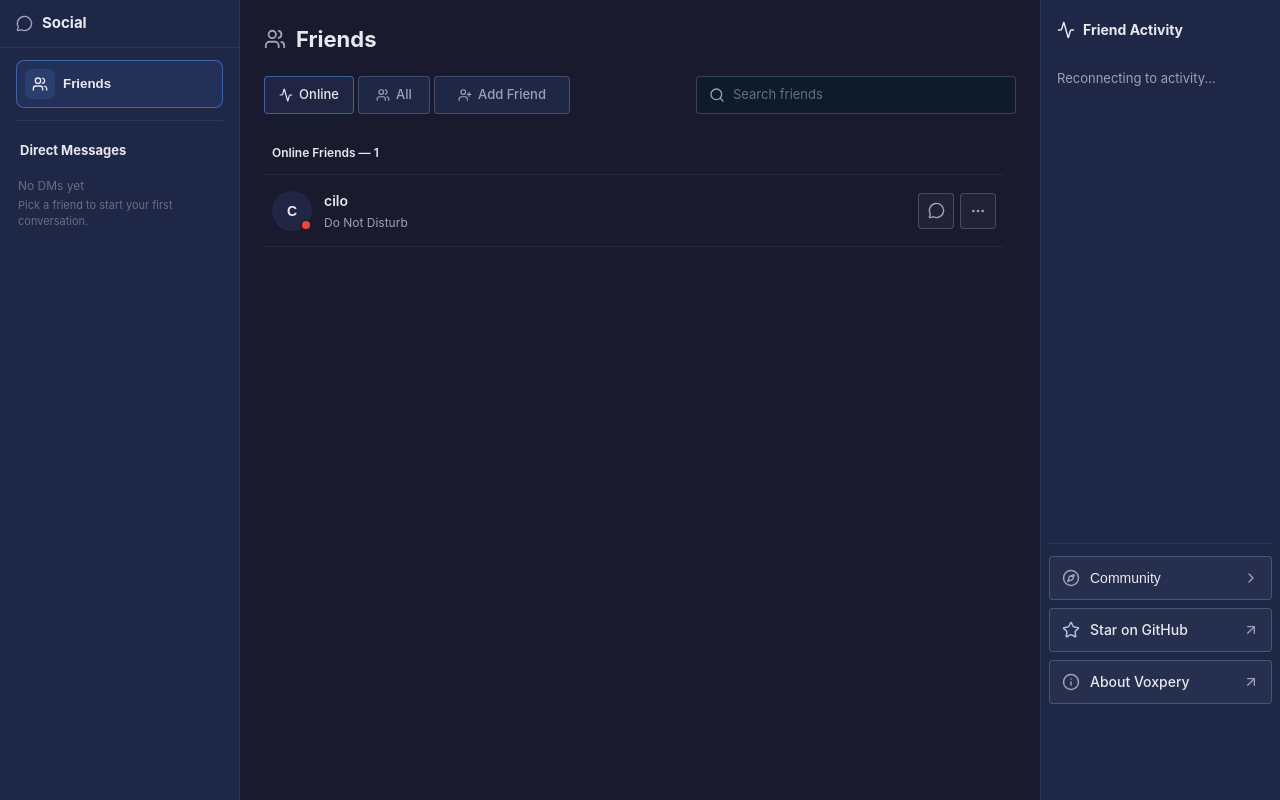
Test: HomePage friends list › opens a friend profile from the viewport-clamped Social context menu
Right-click the element named "Message cilo" at (634, 211), box x1=264 y1=175 x2=1004 y2=247
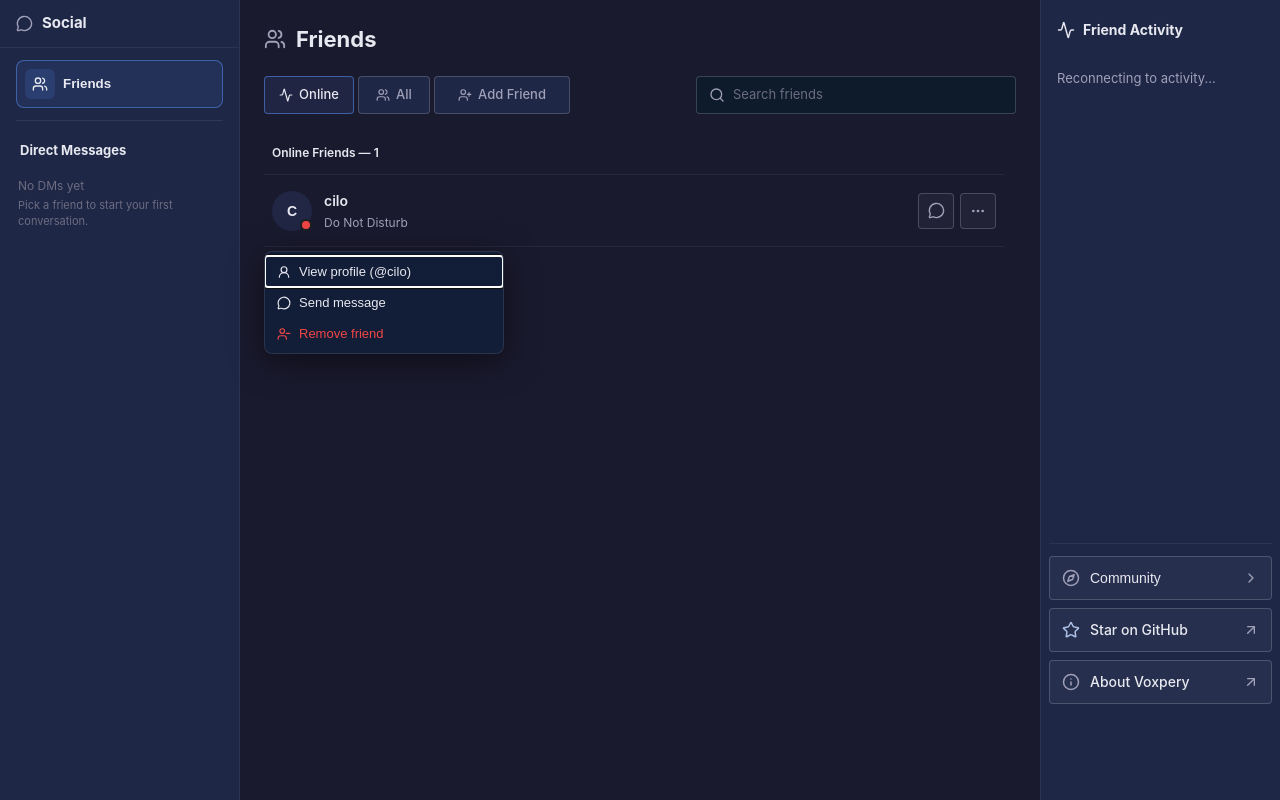
Expected: the menu named "Actions for cilo" is shown, x1=264 y1=251 x2=504 y2=354
Click the menu item "View profile (@cilo)" at (384, 272), box x1=265 y1=256 x2=503 y2=287
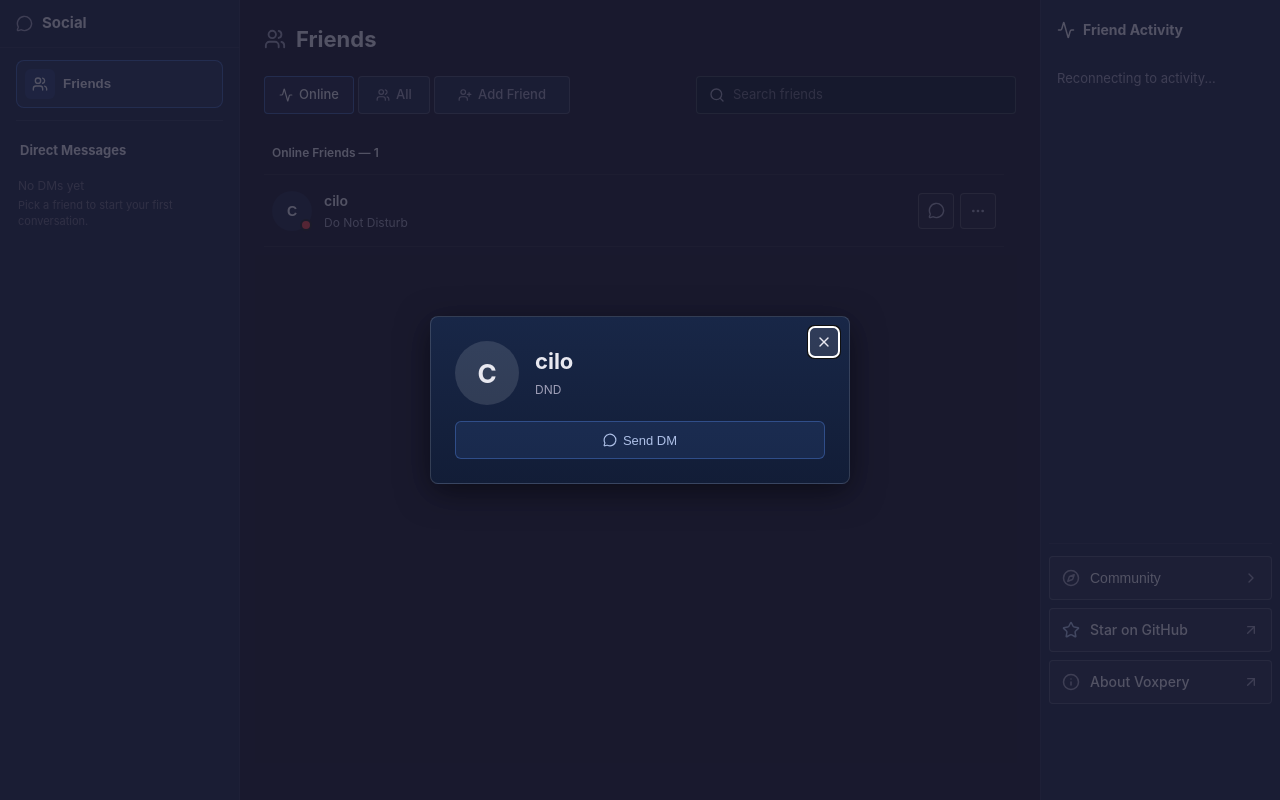
Expected: the dialog "cilo" is shown, x1=430 y1=316 x2=850 y2=484
Expected: the button "Send DM" is shown, x1=455 y1=421 x2=825 y2=459
